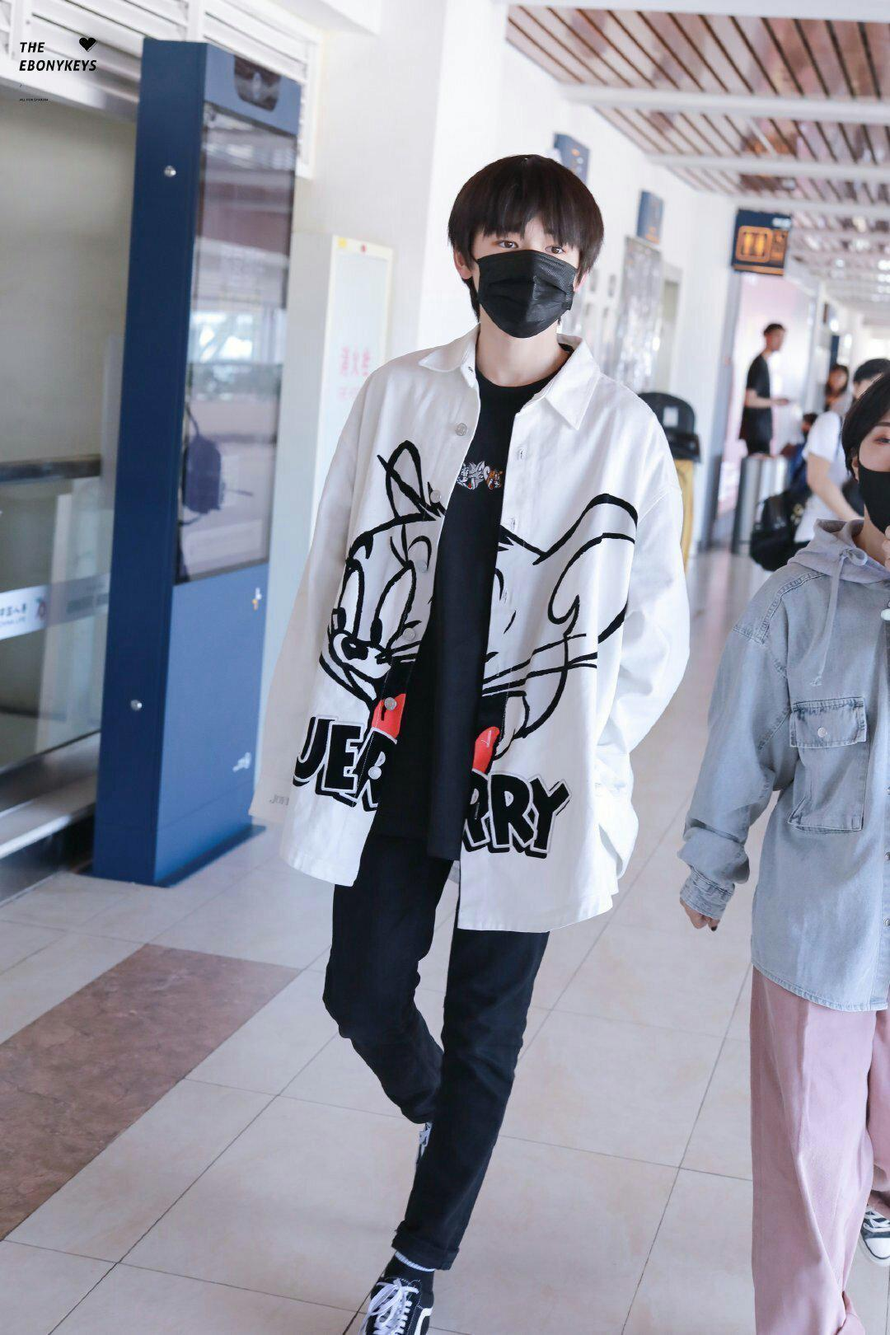OK: (471, 213, 576, 339), (856, 405, 890, 532)
